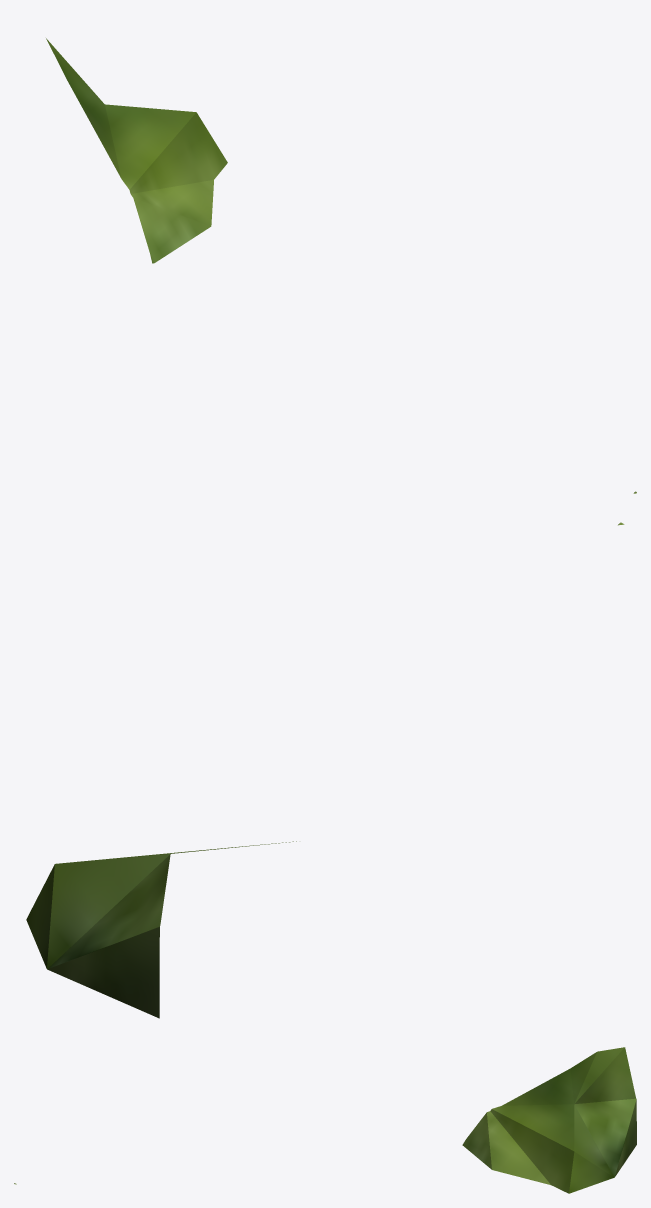
3 views of the same model, one above another, from view 1: azimuth 30°, elevation 25°; view 2: azimuth 150°, elevation 25°; view 3: azimuth 270°, elevation 25° (orthographic). The views are drawn at different scales.
Size of the model in its own units: 0.0486 by 0.045 by 0.2603.
1 material, 1 textured.
